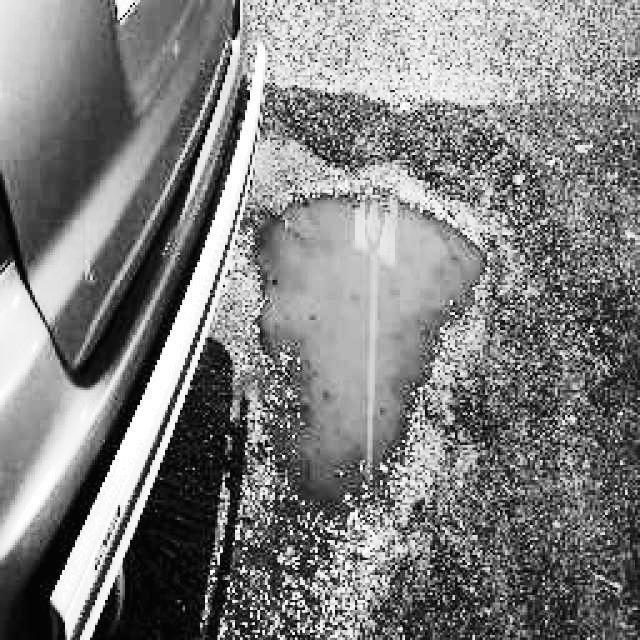Pothole: (234, 166, 500, 541)
